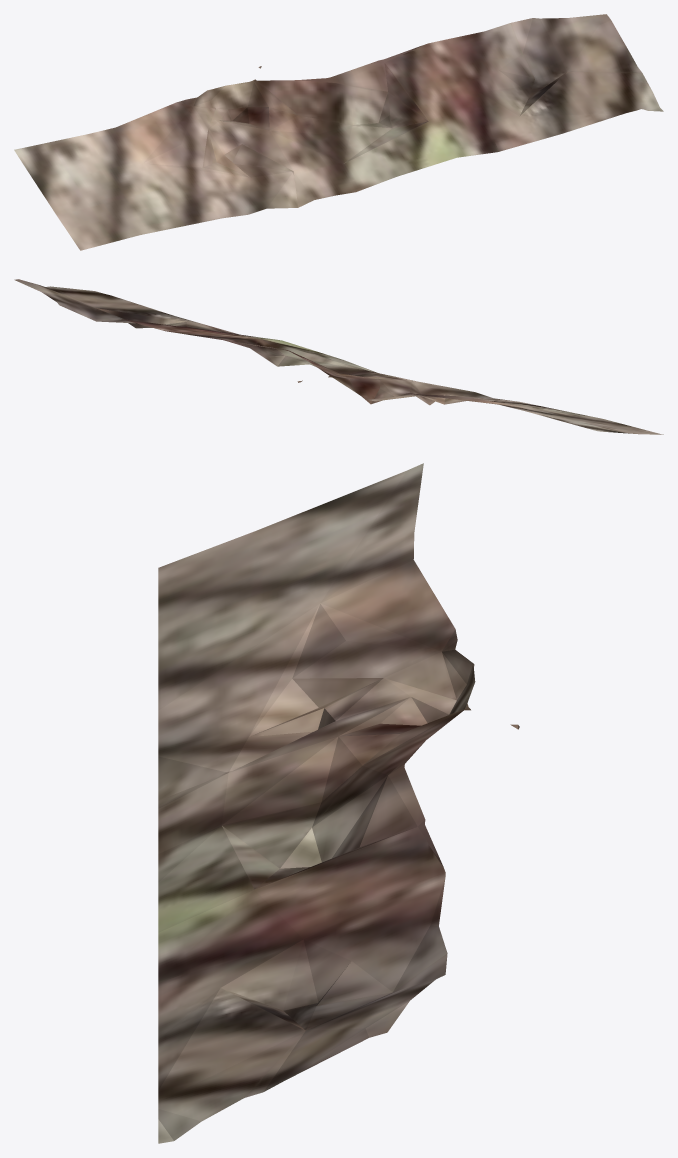
3 views of the same model, one above another, from view 1: azimuth 30°, elevation 25°; view 2: azimuth 150°, elevation 25°; view 3: azimuth 270°, elevation 25° (orthographic). The views are drawn at different scales.
Size of the model in its own units: 1.67 by 0.1716 by 0.4494.
Materials: 1 (1 with a texture image).
